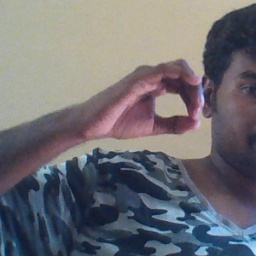O: (78, 55, 207, 147)
